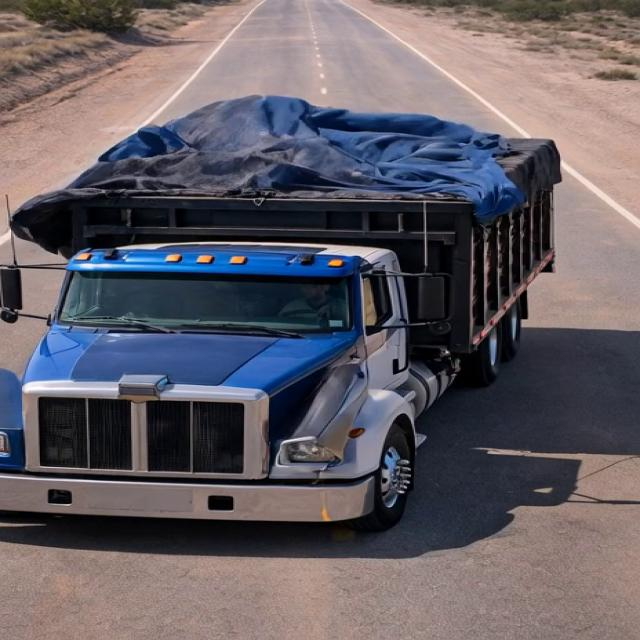Box: (24, 95, 579, 216)
Truck: (3, 85, 600, 528)
